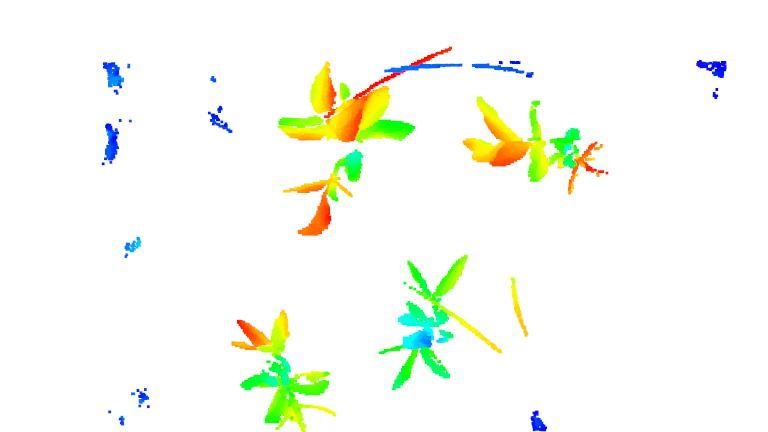mungbean: (278, 58, 413, 241), (463, 91, 621, 200), (226, 308, 345, 432), (383, 246, 477, 395)
